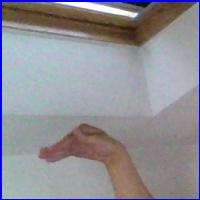del: (39, 117, 123, 175)
